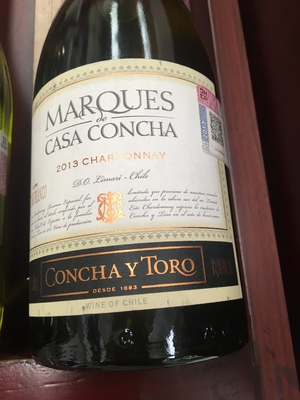marques de casa concha chardonnay: (27, 27, 259, 373)
